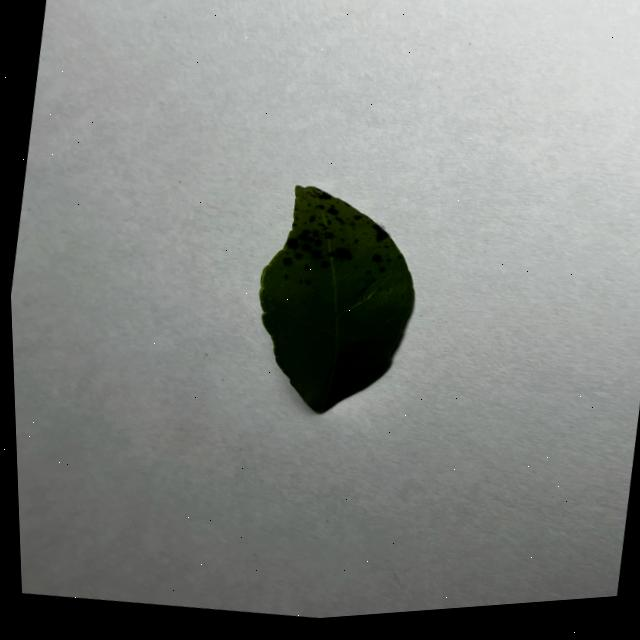sooty_mold: (260, 187, 413, 413)
